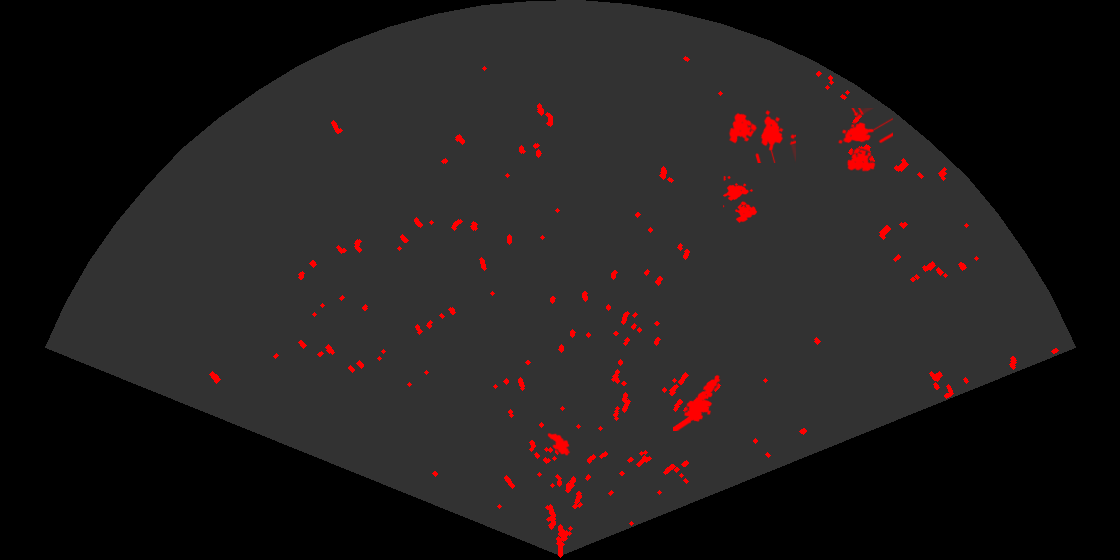AUV: (546, 431, 572, 457)
cage: (727, 108, 796, 163), (836, 108, 893, 173), (723, 176, 759, 225)
frogman: (673, 373, 722, 431)
